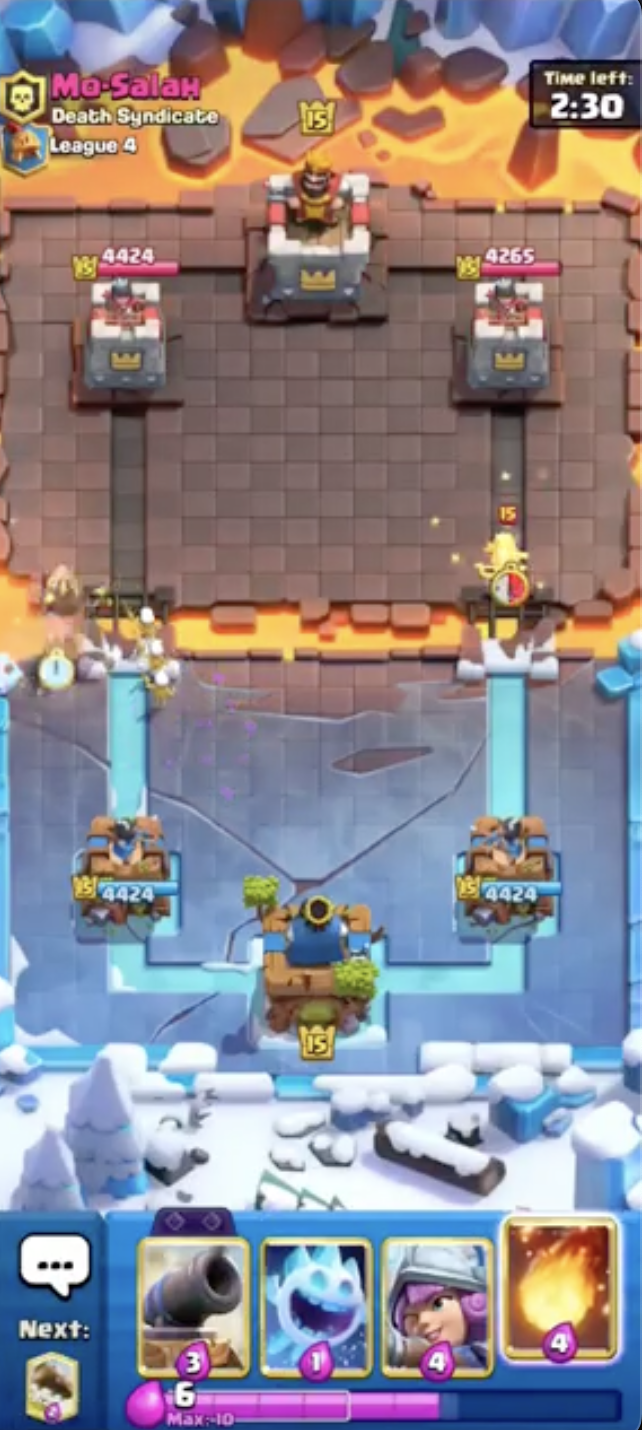princess: (478, 502, 544, 607)
